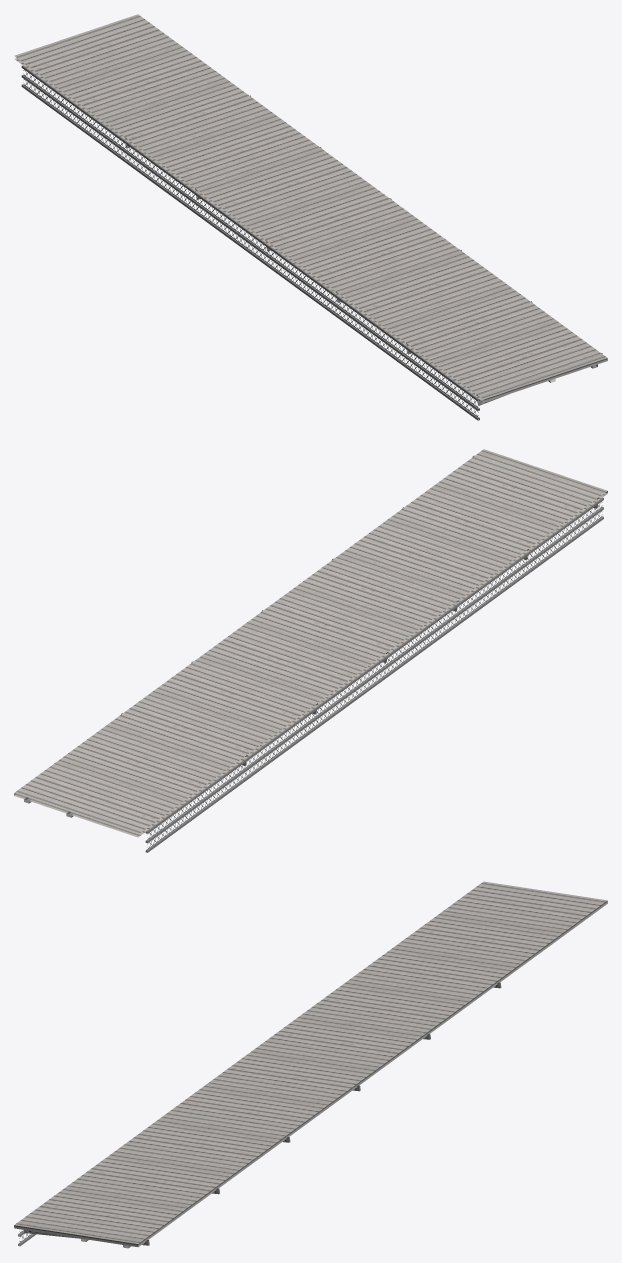
File: roof train selection.fbx
3 renders of one model, top to bottom at view 1: azimuth 30°, elevation 25°; view 2: azimuth 150°, elevation 25°; view 3: azimuth 330°, elevation 25°, orthographic.
Visible parts, largest first — view 1: polySurface574; view 2: polySurface574; view 3: polySurface574.
Boxes of the visible parts, bbox=[...] form: polySurface574: bbox=[14, 14, 607, 420]; polySurface574: bbox=[14, 449, 607, 852]; polySurface574: bbox=[14, 881, 607, 1248].
Bounding box in the file's own units: 2241 × 599 × 14231.
